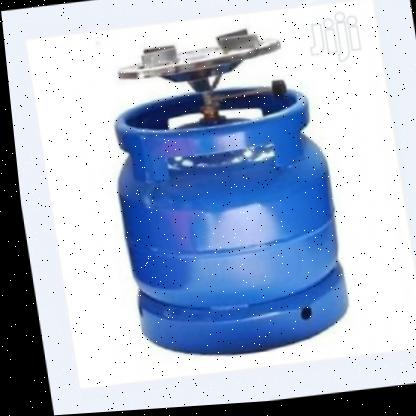gas-tank: (89, 66, 356, 373)
